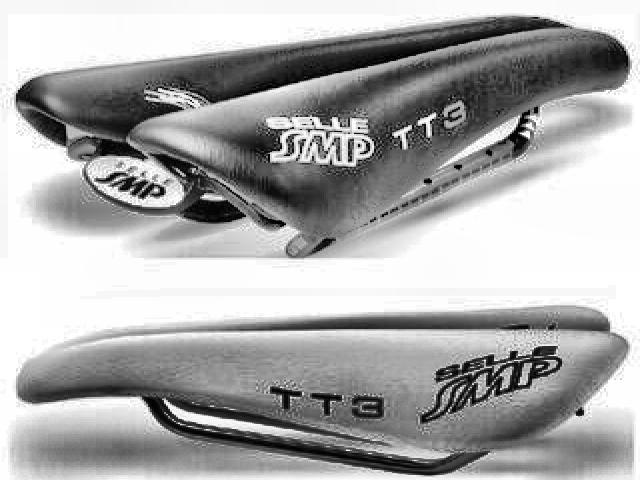saddle: (2, 10, 631, 262), (15, 303, 631, 475)
